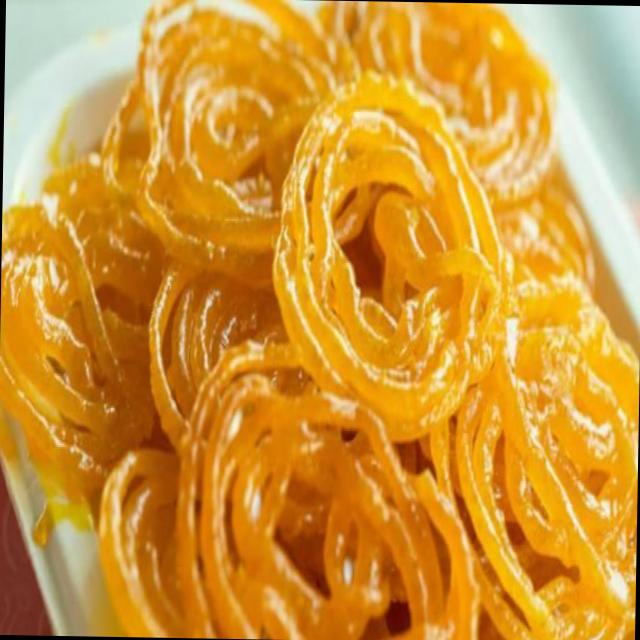jalebi: (11, 19, 630, 640)
